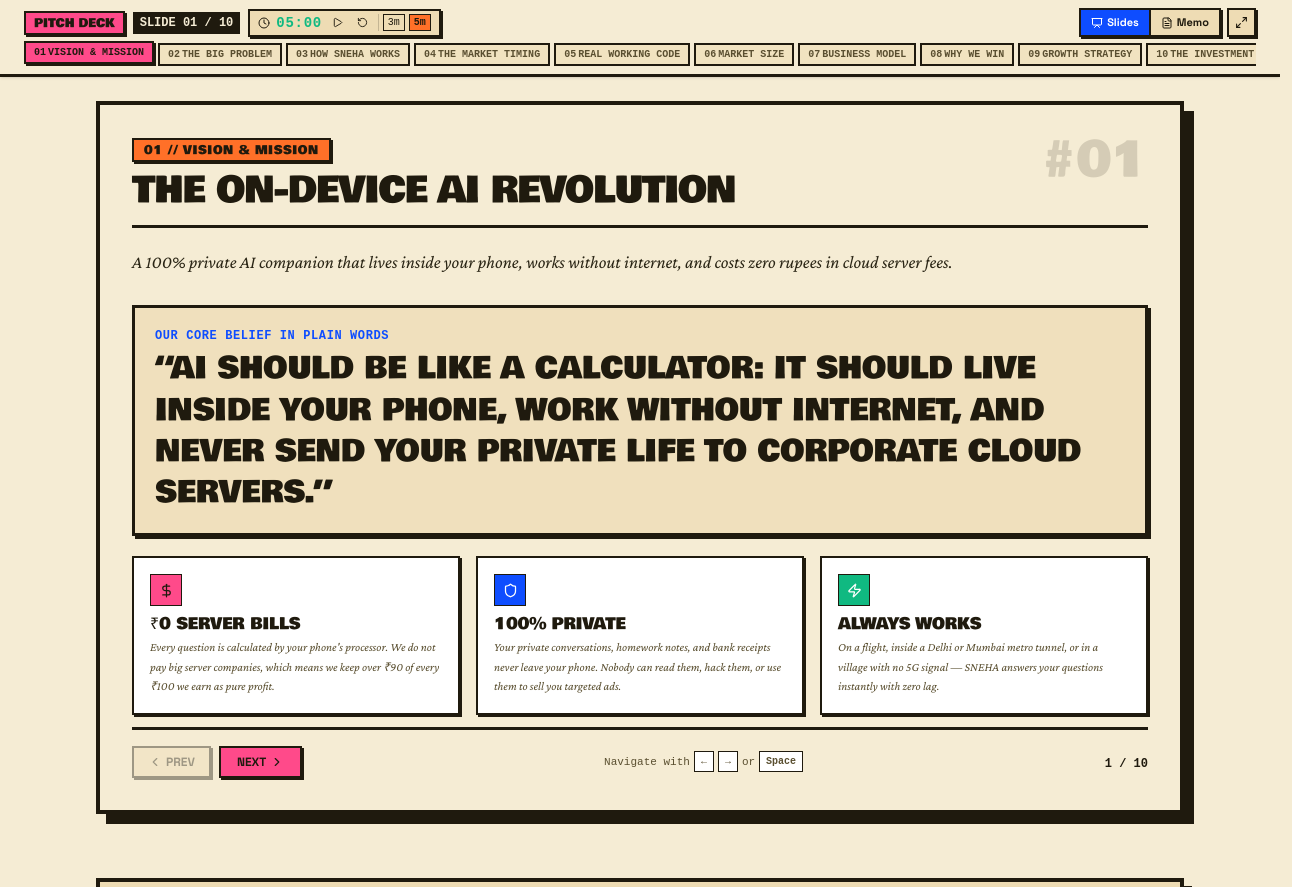
Test: PitchDeck Component › updates financial calculations dynamically when adjusting the simulator slider
Note: Jump to Slide 07
Click the text "07" at (814, 54), box [808, 49, 820, 60]
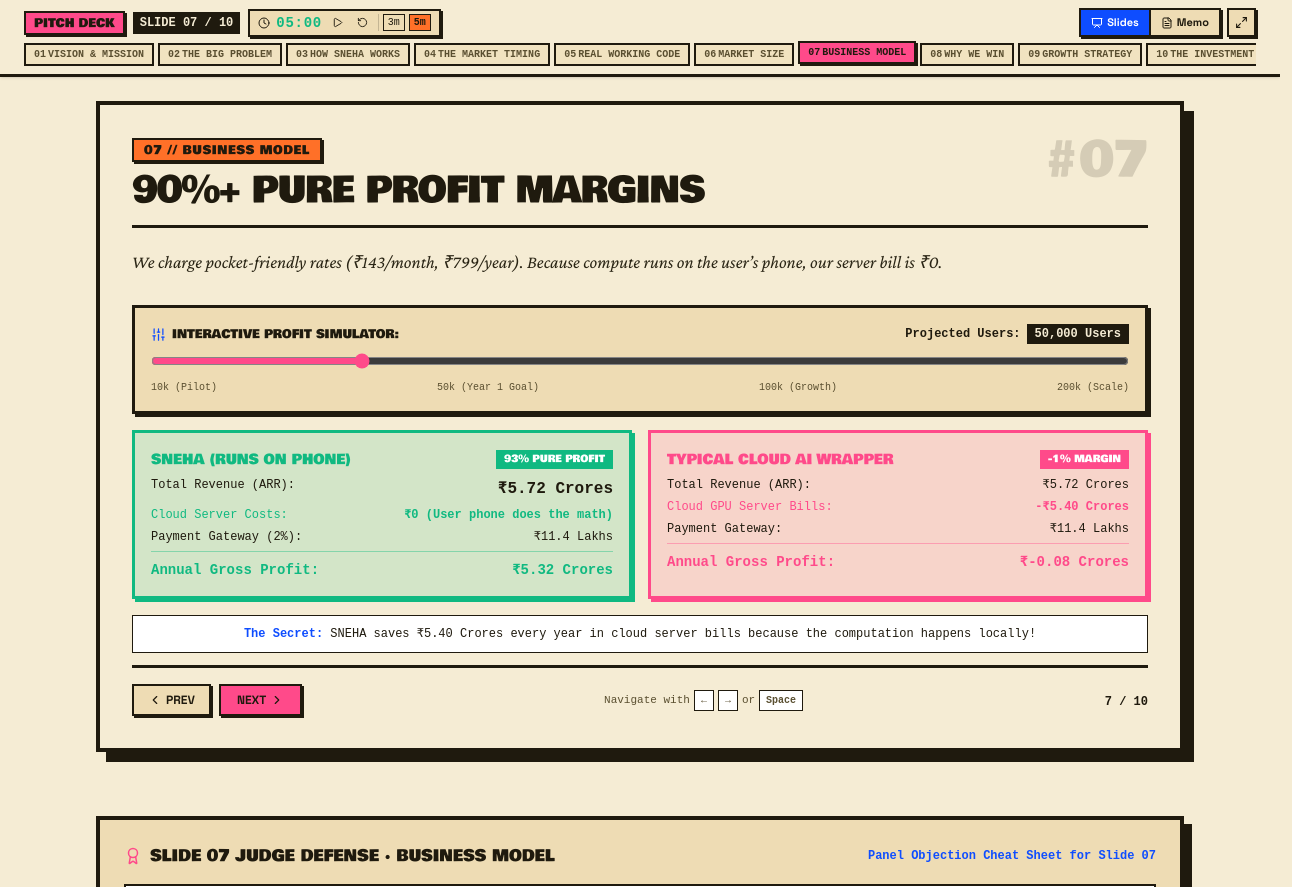
Now the slider is shown
Now the text "50,000 Users" is shown, box [1027, 324, 1129, 344]
Note: Slide to 100,000 users
Set the slider to "100000" at (615, 361), box [151, 353, 1129, 369]
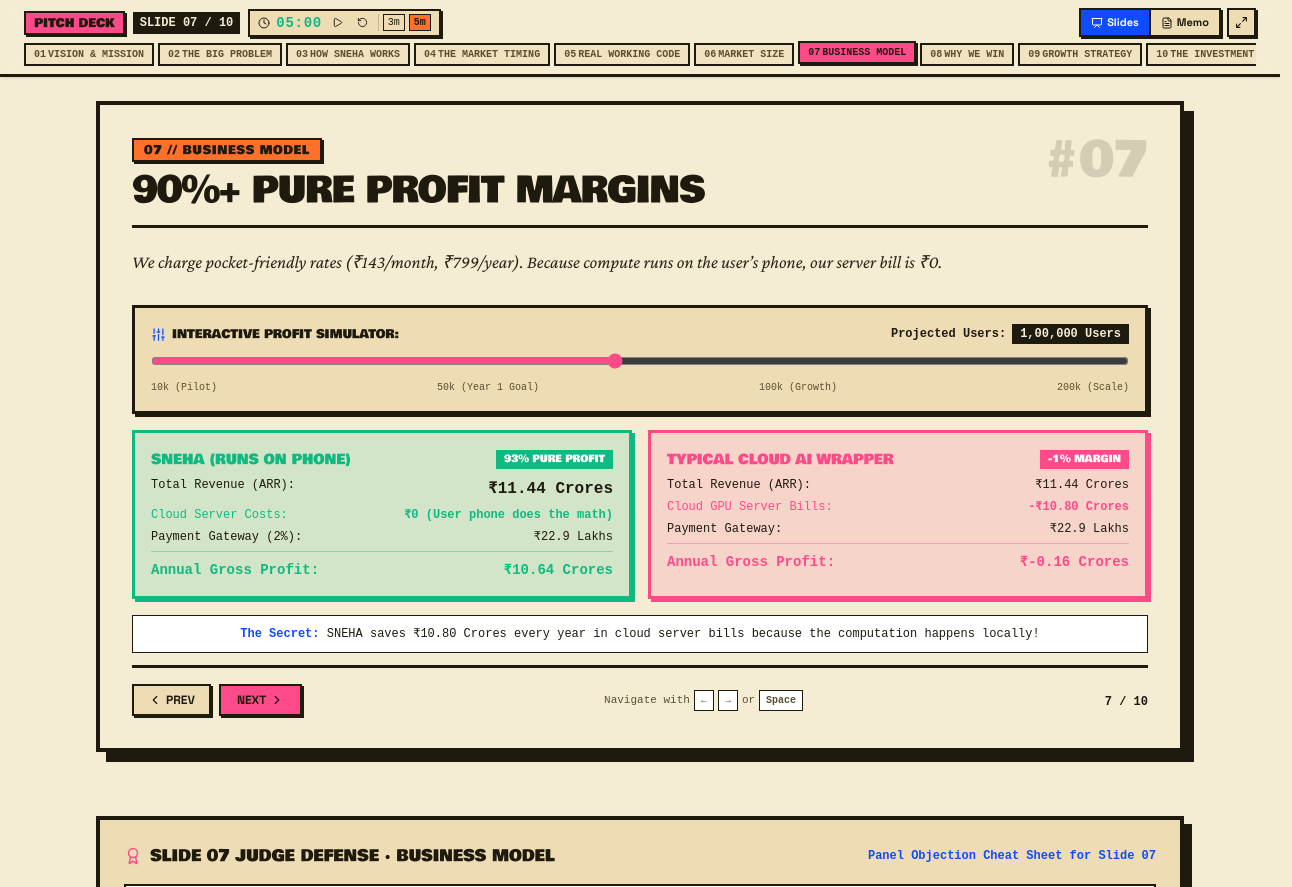
Now the text "1,00,000 Users" is shown, box [1012, 324, 1129, 344]
